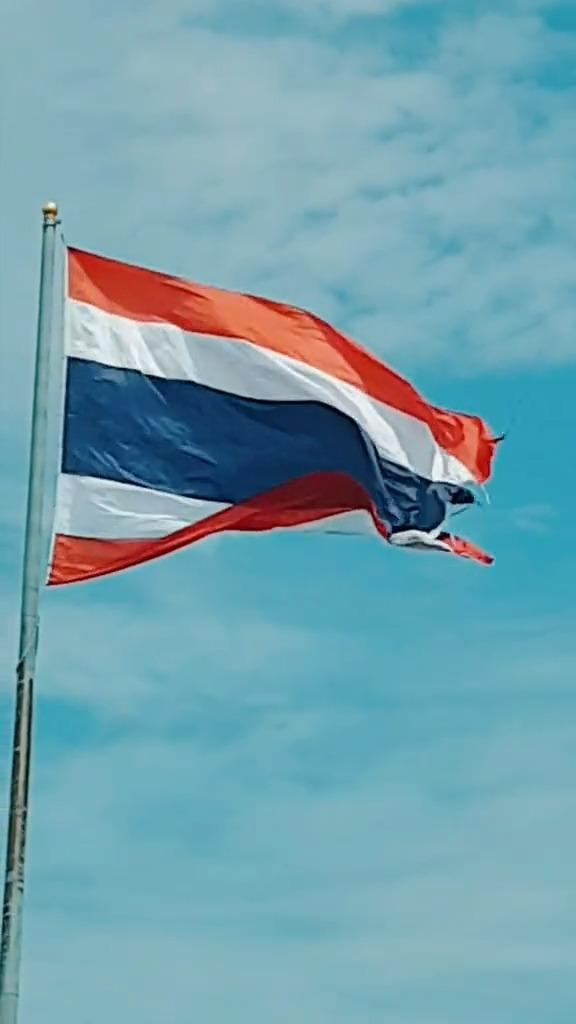Thailand: (51, 244, 491, 589)
